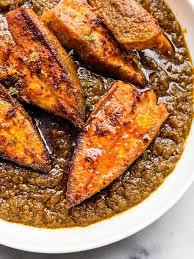Fish Curry: (6, 1, 177, 236)
